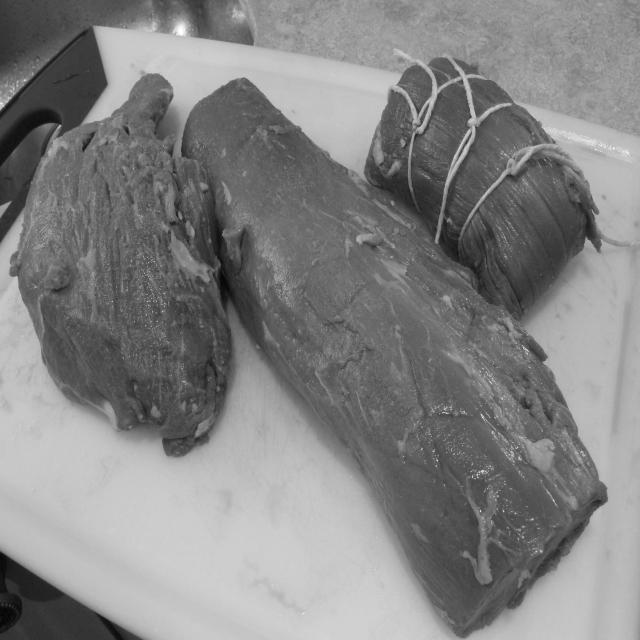thit than: (186, 67, 620, 615), (40, 133, 226, 445)
